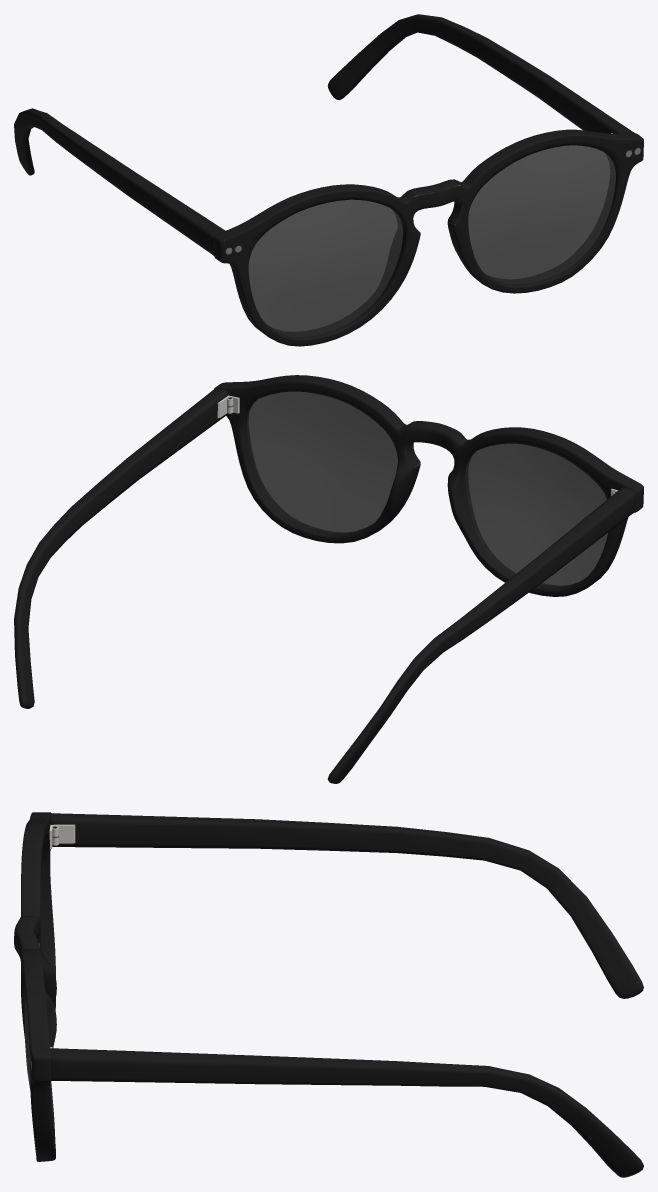
File: Star Glasses.glb
3 renders of one model, top to bottom at view 1: azimuth 30°, elevation 25°; view 2: azimuth 150°, elevation 25°; view 3: azimuth 270°, elevation 25°, orthographic. The views are drawn at different scales.
Parts seen in each view (by area): view 1: 6; view 2: 6; view 3: 6.
Boxes of the visible parts, <box> form: 6: <box>14,14,643,346</box>; 6: <box>14,375,643,783</box>; 6: <box>14,812,643,1177</box>.
Bounding box in the file's own units: 0.1456 × 0.0511 × 0.1578.
2 materials, 2 textured.
